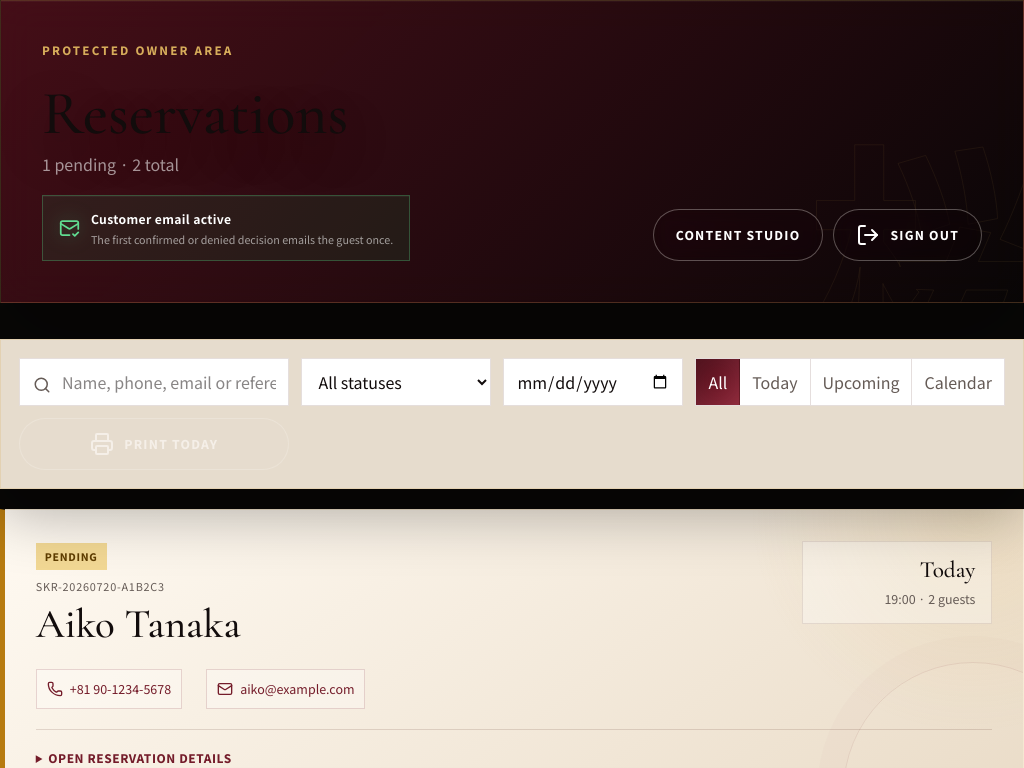
Test case: protected owner reservation dashboard › filters today and status views
The width and height of the screenshot is (1024, 768).
Click the button "today" at (775, 382), box x1=740 y1=359 x2=811 y2=405
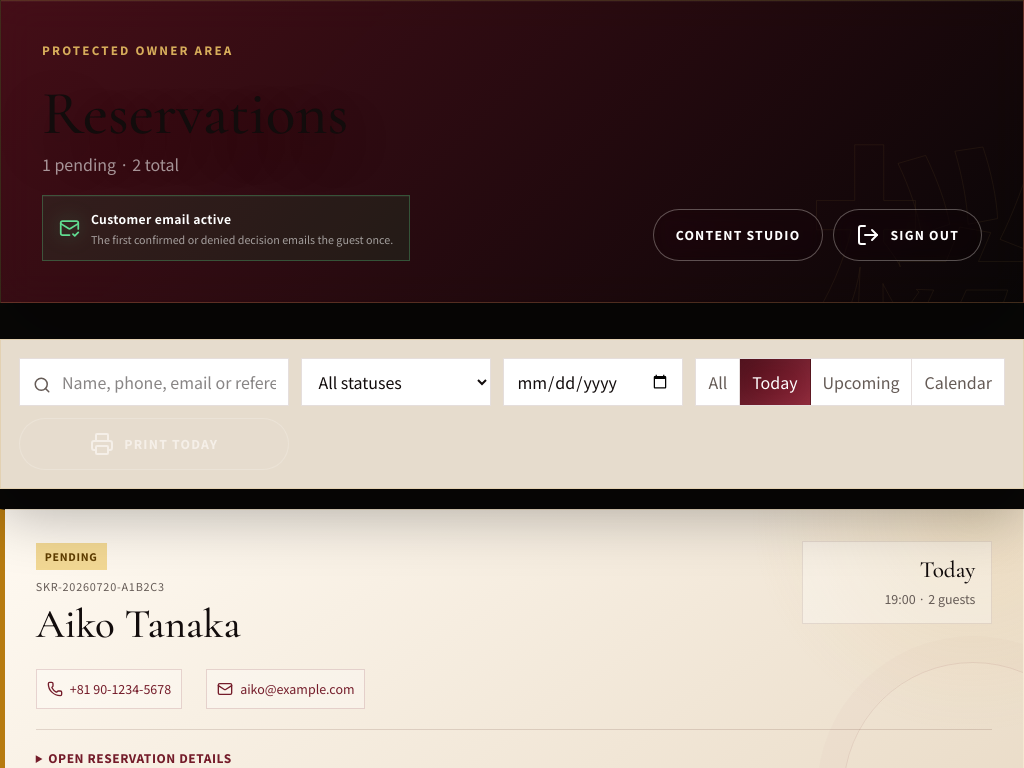
Check: the heading "Aiko Tanaka" is shown, box x1=36 y1=599 x2=241 y2=649
Check: the heading "Ken Sato" is not shown
Click the button "all" at (718, 382), box x1=696 y1=359 x2=740 y2=405
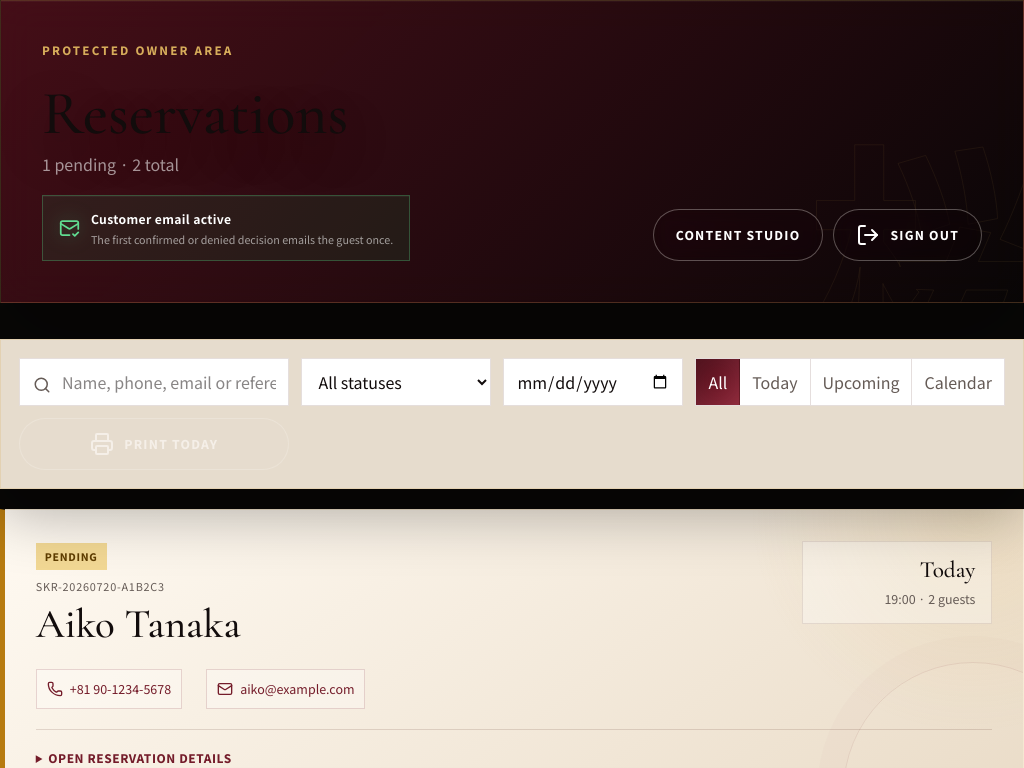
Select "Confirmed" in the dropdown named "Filter by status" at (396, 382), box x1=301 y1=358 x2=491 y2=406
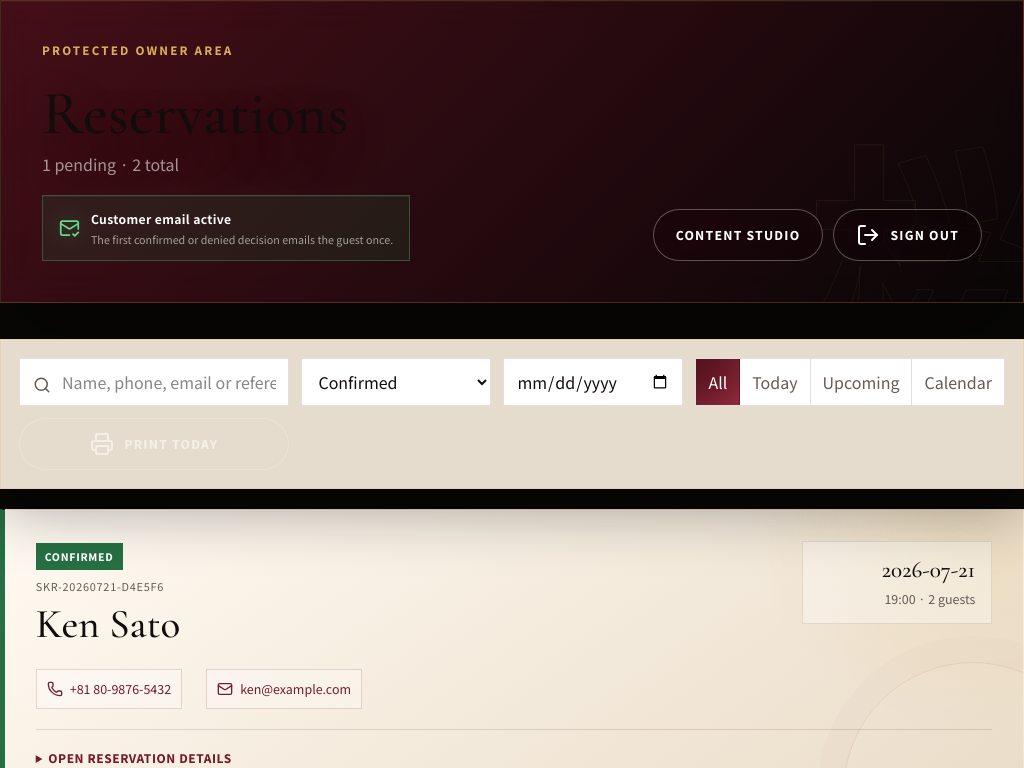
Check: the heading "Ken Sato" is shown, box x1=36 y1=599 x2=180 y2=649
Check: the heading "Aiko Tanaka" is gone
